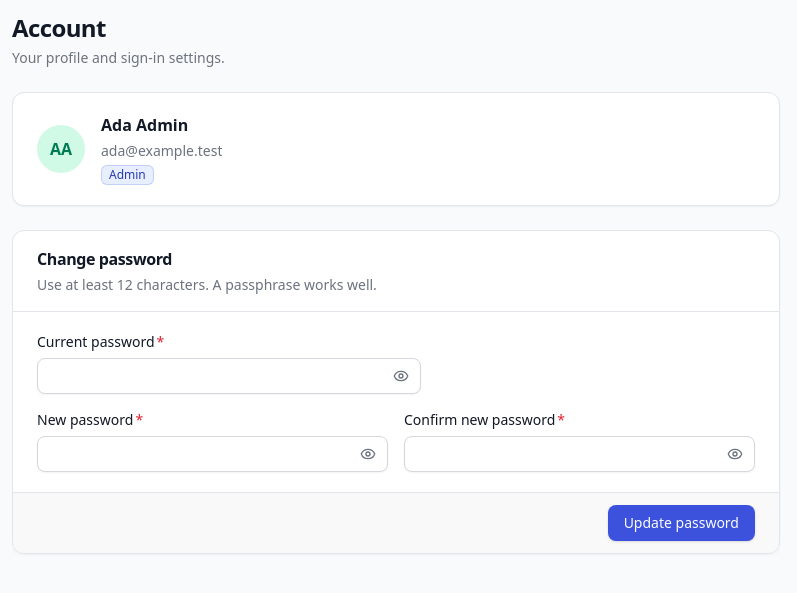
Test: AccountPage › requires the confirmation to match
Step 1. Type "old-password-123" into the password field labelled "Current password*" → (229, 376), box x1=37 y1=358 x2=421 y2=394
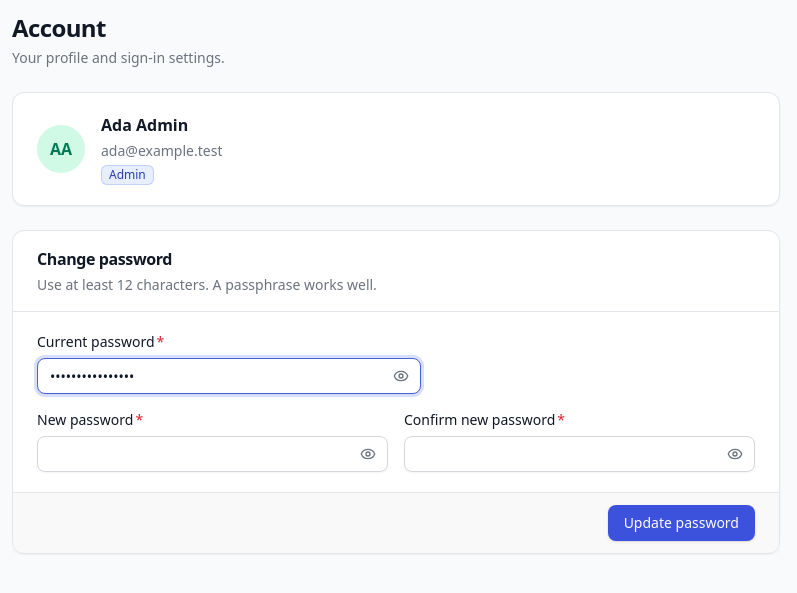
Step 2. Type "new-password-456" into the password field labelled "New password*" → (212, 454), box x1=37 y1=436 x2=388 y2=472
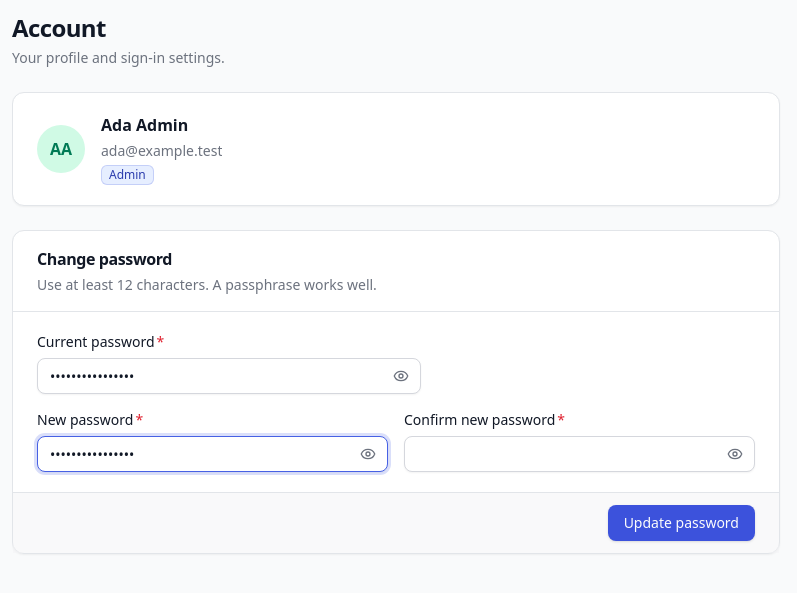
Step 3. Type "different-789" into the password field labelled "Confirm new password*" → (580, 454), box x1=404 y1=436 x2=755 y2=472
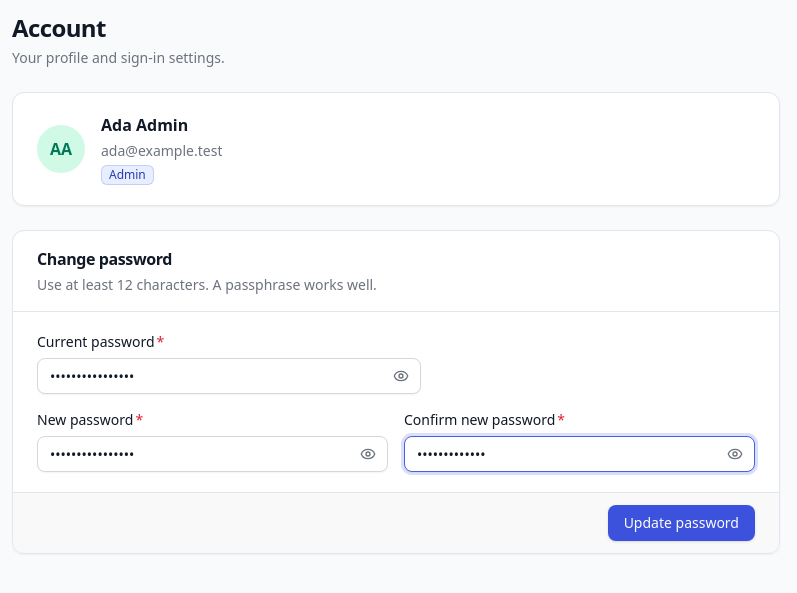
Step 4. Click the button "Update password" → (681, 523), box x1=608 y1=505 x2=755 y2=541
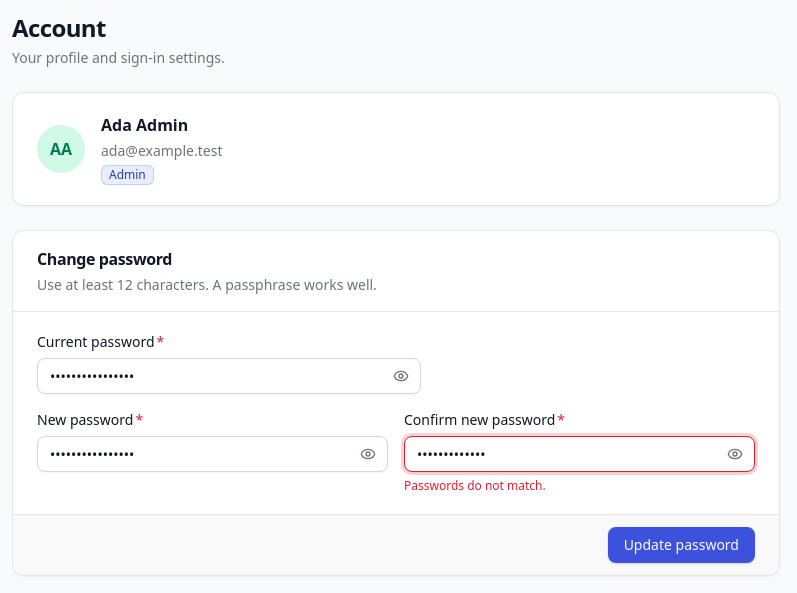
Now the text "Passwords do not match." is shown, box x1=404 y1=477 x2=546 y2=494
